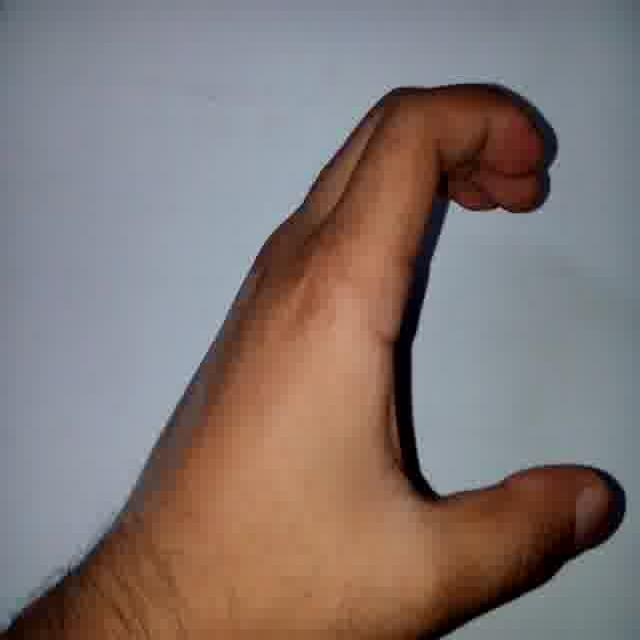Alphabet-C: (134, 76, 622, 599)
